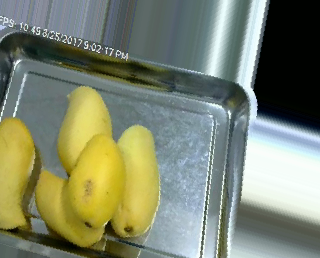Mango: (32, 168, 110, 250), (65, 127, 124, 230), (113, 118, 161, 241), (59, 89, 113, 175), (0, 114, 38, 231)
